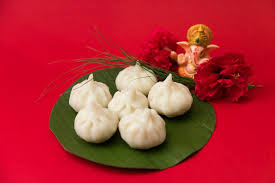modak: (67, 96, 121, 142), (146, 68, 195, 118), (118, 106, 172, 148), (108, 85, 168, 120), (108, 56, 162, 91), (66, 79, 121, 111)
